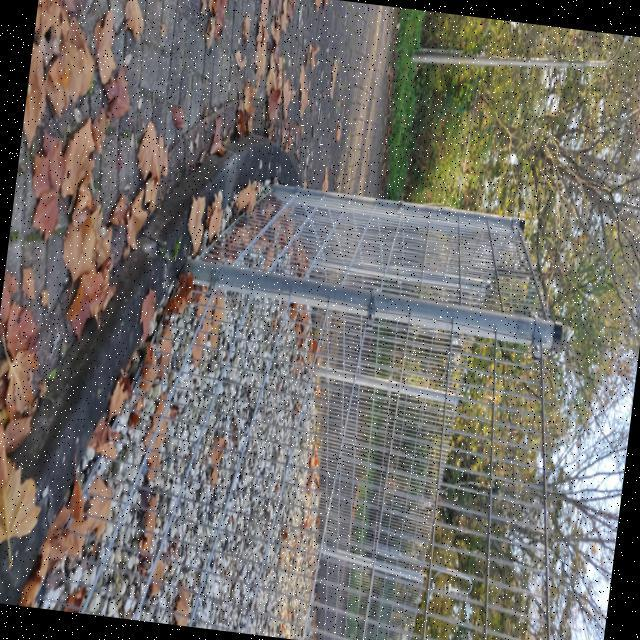fence line: (74, 124, 566, 639)
